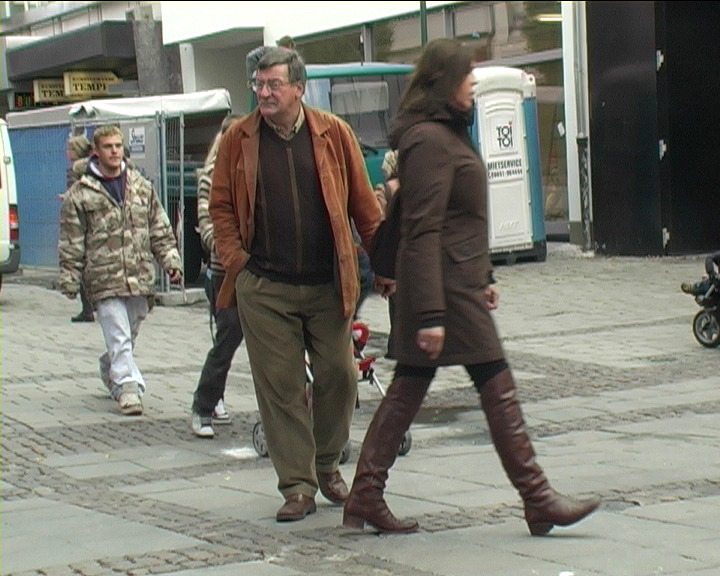deflection: (228, 50, 344, 160)
undeflect: (71, 125, 158, 206)
